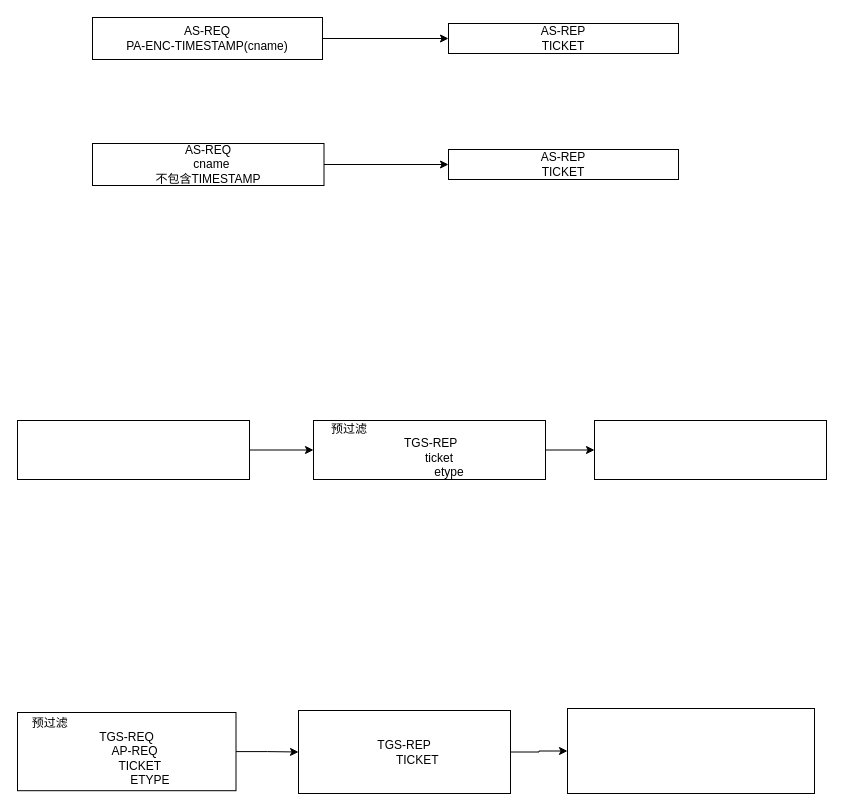
This 844x811 diagram has some shape labels left out. Each missing label, with the centre of its shape:
Event ID 4672 EventData SubjectUserName SubjectUserSid: pixel 690 751
Event ID 4769 EventData ServiceName: pixel 710 450
TGS-REQ: pixel 133 450
